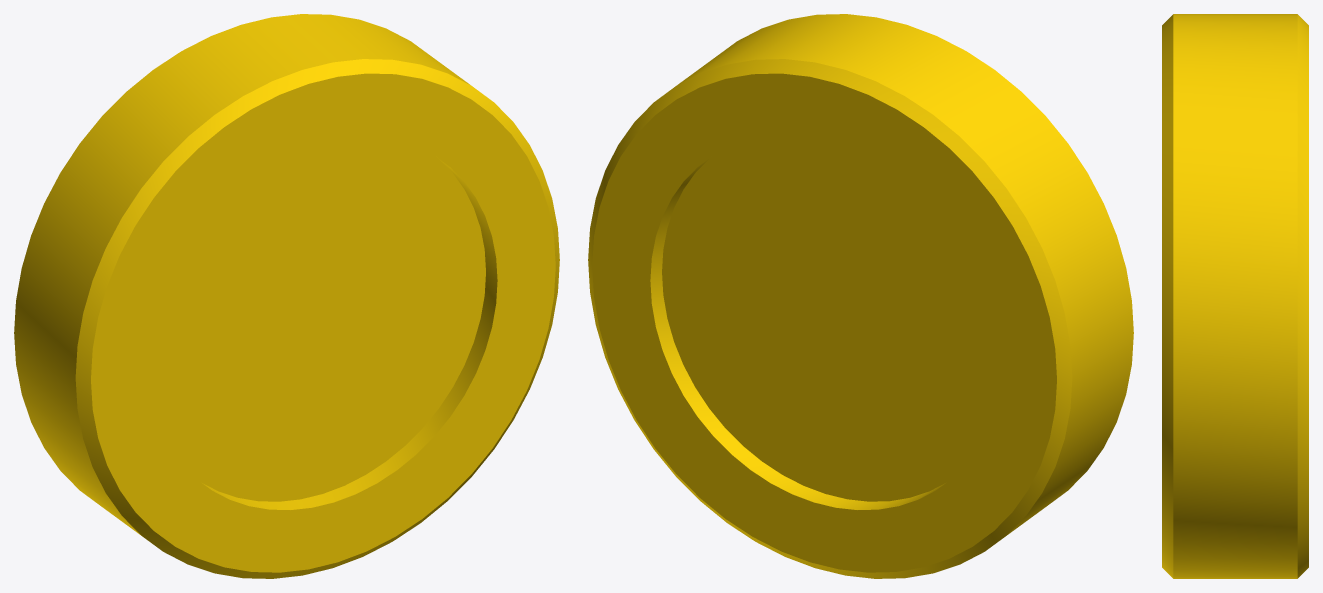
The model's file is coin.fbx.
3 views of the same model, side by side, from view 1: azimuth 30°, elevation 25°; view 2: azimuth 150°, elevation 25°; view 3: azimuth 270°, elevation 25° (orthographic).
Parts seen in each view (by area): view 1: coin; view 2: coin; view 3: coin.
Part boxes in pixels (x1,y1,x2,y2): coin: [14, 14, 559, 578]; coin: [588, 14, 1133, 578]; coin: [1162, 14, 1308, 578].
Size of the model in its own units: 100 by 99.8 by 26.
